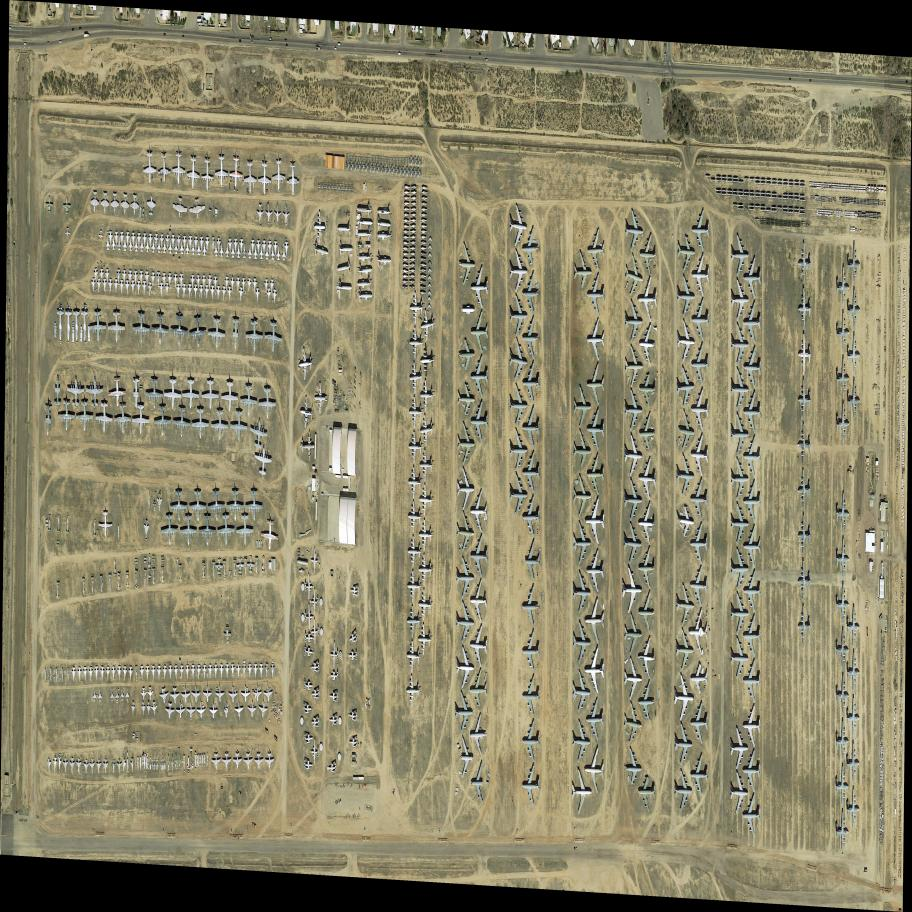large-vehicle: (84, 34, 90, 38)
plane: (506, 336, 532, 387), (672, 672, 696, 726), (622, 252, 646, 304), (570, 716, 594, 767), (621, 566, 644, 617), (571, 766, 594, 817), (675, 273, 698, 323), (675, 408, 698, 457), (675, 318, 698, 366), (571, 619, 594, 667), (673, 721, 695, 770), (584, 497, 606, 546), (622, 520, 644, 569), (583, 597, 605, 646), (623, 433, 645, 481), (571, 669, 593, 716), (508, 202, 529, 251), (584, 746, 605, 795), (623, 700, 644, 748), (572, 569, 593, 617), (688, 608, 709, 655), (455, 600, 476, 647), (637, 275, 657, 324), (674, 767, 695, 813), (455, 510, 476, 556), (623, 478, 644, 524), (625, 207, 645, 255), (676, 232, 697, 277), (688, 564, 709, 609), (623, 613, 644, 658), (730, 725, 750, 772), (469, 623, 489, 670), (637, 456, 657, 503), (584, 647, 604, 694), (742, 346, 762, 392), (730, 502, 750, 548), (675, 628, 695, 674), (676, 454, 696, 500), (585, 548, 605, 594), (573, 474, 592, 522), (730, 368, 750, 413), (623, 657, 643, 702), (690, 298, 710, 343), (624, 389, 644, 434), (509, 384, 529, 429), (509, 473, 529, 518), (455, 689, 474, 736), (585, 696, 604, 743), (689, 702, 709, 746), (689, 478, 709, 522), (624, 301, 644, 345), (676, 582, 695, 628), (690, 433, 709, 479), (677, 365, 696, 411), (456, 644, 475, 690), (690, 209, 710, 252), (248, 414, 270, 453), (730, 323, 749, 368), (731, 458, 750, 503), (731, 547, 750, 592), (742, 614, 761, 659), (730, 637, 749, 682), (742, 749, 761, 794), (730, 771, 749, 816), (637, 635, 656, 680), (469, 713, 488, 758), (469, 579, 488, 624), (573, 522, 592, 567), (586, 452, 605, 497), (638, 233, 657, 278), (470, 355, 489, 400), (509, 294, 528, 339), (522, 764, 541, 809), (457, 421, 475, 468), (458, 241, 476, 288), (252, 442, 274, 480), (731, 593, 750, 637), (742, 659, 761, 703), (742, 794, 761, 838), (690, 388, 709, 432), (691, 254, 710, 298), (456, 556, 475, 600), (586, 408, 605, 452), (509, 429, 528, 473), (731, 233, 749, 279), (457, 467, 475, 513), (730, 414, 749, 457), (638, 324, 657, 367), (509, 251, 528, 294), (521, 273, 540, 316), (690, 754, 708, 799), (587, 228, 605, 273), (625, 344, 643, 389), (522, 720, 540, 765), (522, 408, 541, 450), (731, 279, 749, 323), (743, 391, 761, 435), (743, 481, 761, 525), (743, 525, 761, 569), (743, 704, 761, 748), (637, 591, 655, 635), (470, 536, 488, 580), (470, 490, 488, 534), (470, 401, 488, 445), (574, 385, 592, 429), (587, 363, 605, 407), (587, 318, 605, 362), (470, 311, 488, 355), (470, 266, 488, 310), (522, 362, 540, 406), (637, 774, 656, 815), (743, 302, 761, 345), (743, 436, 761, 479), (743, 571, 761, 614), (743, 257, 761, 300), (691, 344, 709, 387), (587, 274, 605, 317), (522, 452, 540, 495), (521, 586, 539, 629), (522, 631, 540, 674), (522, 676, 540, 719), (638, 680, 655, 725), (638, 546, 655, 591), (676, 502, 696, 540), (638, 412, 656, 454), (522, 319, 540, 361), (522, 497, 540, 539), (638, 503, 655, 547), (573, 430, 592, 469), (260, 517, 280, 554), (169, 311, 189, 348), (690, 524, 708, 565), (522, 228, 540, 269), (216, 510, 235, 548), (469, 669, 487, 709), (835, 763, 850, 809), (85, 374, 104, 410), (66, 374, 85, 410), (264, 320, 283, 356), (150, 312, 169, 348), (419, 306, 437, 344), (625, 746, 642, 786), (835, 673, 850, 718), (835, 310, 850, 355), (835, 809, 850, 854), (525, 539, 540, 584), (418, 411, 436, 448), (160, 512, 179, 547), (163, 377, 182, 412), (797, 333, 812, 377), (228, 150, 244, 191), (226, 488, 244, 524), (75, 399, 94, 433), (169, 489, 188, 523), (179, 514, 198, 548), (172, 406, 191, 440), (207, 317, 226, 351), (88, 309, 107, 343), (258, 387, 277, 421), (239, 384, 258, 418), (229, 409, 248, 443), (201, 378, 220, 412), (210, 408, 229, 442), (457, 382, 476, 416), (574, 251, 591, 289), (95, 400, 113, 435), (57, 398, 75, 433), (198, 513, 216, 548), (245, 488, 263, 523), (245, 318, 263, 353), (132, 311, 150, 346), (221, 380, 239, 415), (836, 265, 850, 310), (847, 333, 861, 378), (836, 401, 850, 446), (836, 490, 850, 535), (836, 582, 850, 627), (846, 742, 860, 787), (846, 786, 860, 831), (460, 735, 474, 780), (131, 404, 150, 437), (797, 378, 811, 422), (847, 288, 861, 332), (846, 605, 860, 649), (836, 628, 850, 672), (836, 719, 850, 763), (186, 151, 201, 192), (189, 489, 207, 523), (207, 488, 225, 522), (145, 377, 163, 411), (107, 310, 125, 344), (191, 406, 209, 440), (182, 379, 200, 413), (797, 605, 811, 648), (797, 424, 811, 467), (847, 244, 861, 287), (847, 380, 861, 423), (846, 696, 860, 739), (200, 153, 215, 193), (243, 156, 258, 196), (418, 483, 435, 518), (407, 500, 424, 535), (417, 588, 434, 623), (417, 623, 434, 658), (298, 346, 315, 381), (114, 402, 132, 435), (108, 375, 126, 408), (236, 513, 254, 546), (690, 663, 708, 696), (406, 640, 423, 674), (639, 373, 656, 407), (458, 338, 475, 372), (189, 316, 207, 348), (418, 552, 434, 588), (798, 560, 811, 604), (798, 287, 811, 331), (836, 357, 849, 401), (847, 650, 860, 694), (171, 148, 186, 186), (154, 405, 171, 438), (143, 146, 157, 186), (272, 153, 286, 193), (408, 430, 424, 465), (418, 518, 434, 553), (798, 514, 811, 557), (798, 469, 811, 512), (798, 242, 811, 285), (836, 537, 849, 580), (299, 395, 314, 432), (407, 535, 423, 569), (409, 292, 425, 326), (258, 158, 272, 196), (419, 449, 435, 482), (407, 570, 423, 603), (409, 326, 425, 359), (409, 395, 424, 430), (420, 378, 435, 413), (420, 344, 435, 378), (407, 605, 422, 639), (406, 674, 421, 708), (300, 429, 315, 463), (215, 150, 228, 189), (287, 158, 300, 197), (408, 466, 423, 499), (409, 360, 423, 395), (171, 194, 189, 221), (314, 382, 328, 415), (188, 197, 207, 221), (98, 511, 113, 539), (158, 155, 171, 185), (100, 192, 111, 215), (310, 588, 319, 615), (120, 193, 130, 217), (146, 193, 156, 217), (310, 739, 319, 765), (305, 604, 314, 630), (258, 699, 269, 720), (90, 191, 100, 214), (158, 686, 169, 706), (110, 192, 120, 214), (311, 546, 319, 573), (311, 618, 319, 645), (234, 699, 244, 720), (247, 699, 257, 720), (175, 701, 186, 720), (180, 686, 191, 705), (202, 685, 213, 704), (169, 686, 180, 705), (330, 642, 338, 668), (305, 573, 313, 599), (130, 194, 139, 217), (191, 685, 201, 705), (215, 684, 225, 704), (228, 684, 238, 704), (263, 683, 273, 703), (243, 751, 253, 771), (165, 701, 175, 721), (222, 751, 232, 771), (186, 701, 196, 720), (196, 701, 206, 720), (208, 702, 218, 721), (254, 751, 264, 770), (232, 751, 242, 770), (211, 752, 221, 771), (274, 202, 282, 225), (240, 685, 250, 703), (253, 684, 262, 704), (282, 203, 290, 225), (265, 203, 273, 224), (246, 556, 255, 574), (236, 556, 245, 574), (215, 557, 224, 575), (265, 752, 274, 770), (256, 203, 264, 223), (143, 519, 150, 541), (63, 197, 71, 216), (223, 626, 231, 644), (45, 196, 53, 214), (206, 273, 213, 292), (140, 686, 147, 703), (151, 700, 158, 717), (281, 243, 287, 262), (52, 755, 58, 774), (147, 686, 154, 702), (82, 665, 88, 683), (246, 276, 252, 294), (263, 277, 269, 295), (122, 664, 128, 682), (139, 664, 145, 682), (247, 242, 253, 260), (178, 272, 184, 290), (93, 266, 99, 284), (76, 756, 82, 774), (69, 756, 75, 774), (157, 492, 162, 513), (238, 286, 244, 303), (241, 663, 247, 680), (227, 237, 233, 254), (221, 285, 227, 302), (127, 269, 133, 286), (139, 236, 145, 253), (116, 235, 122, 252), (116, 757, 122, 774), (89, 758, 95, 775), (83, 758, 89, 775), (190, 664, 196, 680), (173, 664, 179, 680), (213, 241, 219, 257), (103, 758, 109, 774), (96, 758, 102, 774), (272, 288, 277, 306), (92, 688, 98, 703), (230, 662, 235, 680), (236, 662, 241, 680), (270, 662, 275, 680), (111, 665, 116, 683), (162, 664, 167, 682), (179, 664, 184, 682), (224, 275, 229, 293), (262, 239, 267, 257), (250, 238, 255, 256), (199, 235, 204, 253), (191, 239, 196, 257), (284, 240, 289, 258), (156, 271, 161, 289), (210, 284, 215, 302), (213, 275, 218, 293), (145, 236, 150, 254), (71, 666, 76, 683), (77, 666, 82, 683), (227, 285, 232, 302), (252, 277, 257, 294), (266, 287, 271, 304), (269, 279, 274, 296), (213, 663, 218, 680), (219, 663, 224, 680), (225, 663, 230, 680), (202, 664, 207, 681), (105, 665, 110, 682), (115, 687, 120, 704), (117, 665, 122, 682), (128, 665, 133, 682), (151, 665, 156, 682), (168, 664, 173, 681), (230, 276, 235, 293), (267, 240, 272, 257), (256, 239, 261, 256), (253, 243, 258, 260), (242, 242, 247, 259), (239, 238, 244, 255), (236, 242, 241, 259), (233, 237, 238, 254), (230, 242, 235, 259), (225, 241, 230, 258), (219, 241, 224, 258), (202, 240, 207, 257), (196, 240, 201, 257), (185, 239, 190, 256), (179, 238, 184, 255), (174, 238, 179, 255), (270, 244, 275, 261), (273, 240, 278, 257), (276, 244, 281, 261), (171, 234, 176, 251), (168, 238, 173, 255), (165, 233, 170, 250), (162, 237, 167, 254), (130, 279, 135, 296), (139, 270, 144, 287), (145, 270, 150, 287), (147, 281, 152, 298), (159, 281, 164, 298), (162, 272, 167, 289), (173, 273, 178, 290), (182, 283, 187, 300), (187, 283, 192, 300), (193, 283, 198, 300), (196, 274, 201, 291), (201, 274, 206, 291), (216, 285, 221, 302), (122, 235, 127, 252), (157, 237, 162, 254), (154, 233, 159, 250), (142, 232, 147, 249), (125, 231, 130, 248), (119, 231, 124, 248), (114, 230, 119, 247), (111, 234, 116, 251), (91, 277, 96, 294), (97, 277, 102, 294), (99, 267, 104, 284), (130, 757, 135, 774), (63, 756, 68, 773), (47, 757, 52, 774), (241, 277, 246, 293), (255, 288, 260, 304), (94, 666, 99, 682), (247, 663, 252, 679), (253, 663, 258, 679), (208, 664, 213, 680), (196, 664, 201, 680), (100, 666, 105, 682), (185, 664, 190, 680), (259, 244, 264, 260), (216, 237, 221, 253), (205, 236, 210, 252), (188, 235, 193, 251), (182, 235, 187, 251), (176, 235, 181, 251), (136, 280, 141, 296), (142, 280, 147, 296), (176, 283, 181, 299), (190, 274, 195, 290), (122, 269, 127, 285), (159, 234, 164, 250), (151, 237, 156, 253), (148, 233, 153, 249), (136, 232, 141, 248), (131, 232, 136, 248), (128, 236, 133, 252), (108, 231, 113, 247), (105, 234, 110, 250), (105, 268, 110, 284), (112, 755, 116, 774), (145, 665, 150, 680), (141, 701, 146, 716), (146, 701, 151, 716), (165, 282, 170, 297), (167, 272, 172, 287), (125, 280, 130, 295), (119, 280, 124, 295), (116, 269, 121, 284), (102, 278, 107, 293), (108, 278, 113, 293), (157, 664, 161, 682), (265, 243, 269, 261), (98, 229, 104, 241), (212, 236, 216, 253), (134, 236, 138, 253), (114, 278, 118, 295), (58, 756, 62, 773), (236, 277, 240, 293), (89, 666, 93, 682), (259, 663, 263, 679), (265, 662, 269, 678), (110, 687, 114, 703), (125, 686, 129, 702), (194, 236, 198, 252), (134, 270, 138, 286), (151, 272, 155, 288), (199, 284, 203, 300), (205, 284, 209, 300), (98, 688, 102, 703), (131, 702, 135, 717), (65, 227, 70, 239), (120, 687, 124, 701)
small-vehicle: (460, 31, 465, 36), (523, 42, 527, 48), (203, 83, 205, 91), (337, 42, 341, 46), (545, 44, 548, 49), (221, 65, 223, 72), (197, 22, 200, 26), (239, 39, 242, 43), (250, 35, 253, 39), (318, 47, 321, 51), (318, 483, 320, 489), (163, 34, 167, 37), (24, 42, 27, 46), (201, 15, 204, 18), (251, 41, 254, 44), (268, 25, 271, 28), (284, 39, 287, 42), (398, 53, 401, 56), (469, 57, 472, 60), (485, 59, 488, 62), (182, 35, 185, 38), (270, 37, 272, 41), (335, 47, 337, 51), (440, 50, 442, 53), (479, 53, 481, 56), (317, 494, 318, 500), (161, 14, 163, 17), (117, 9, 119, 12), (47, 42, 50, 44), (60, 41, 62, 44), (72, 28, 74, 31), (79, 27, 81, 30), (91, 49, 93, 52), (286, 44, 288, 46)
